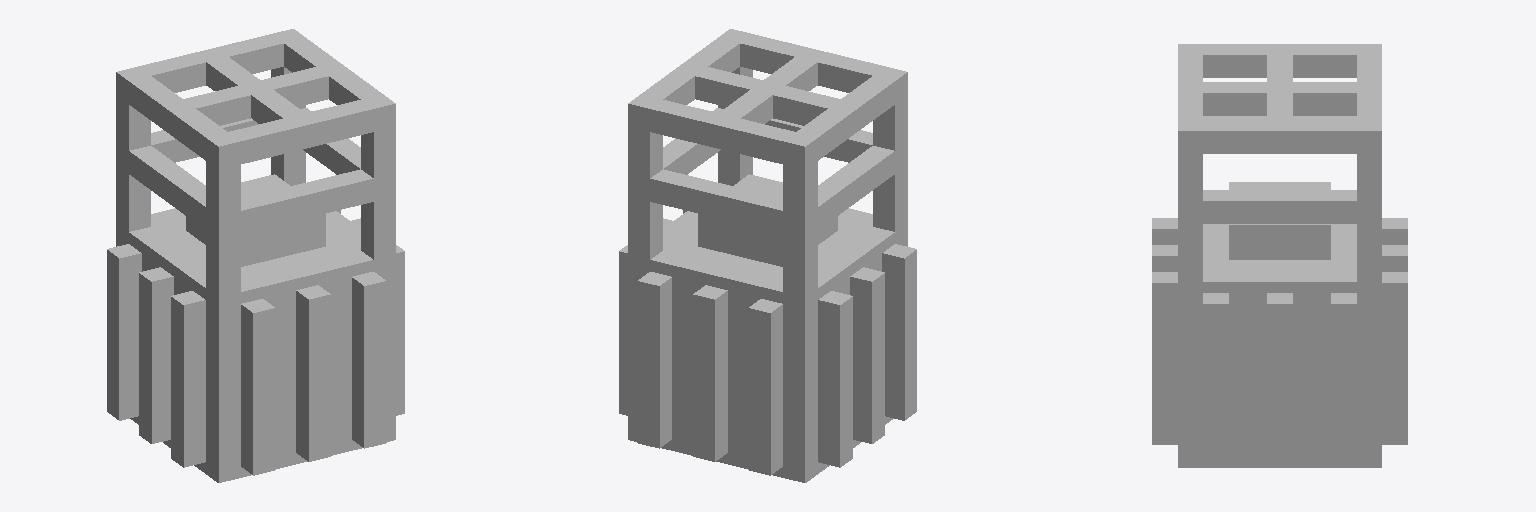
File: time_machine.obj
3 renders of one model, left to right at view 1: azimuth 30°, elevation 25°; view 2: azimuth 150°, elevation 25°; view 3: azimuth 270°, elevation 25°, orthographic.
Visible parts, largest first — view 1: cube; view 2: cube; view 3: cube.
Boxes of the visible parts, <box> form: cube: <box>107,29,404,482</box>; cube: <box>619,29,916,482</box>; cube: <box>1152,44,1407,467</box>.
Bounding box in the file's own units: 1.25 × 1.81 × 1.25.